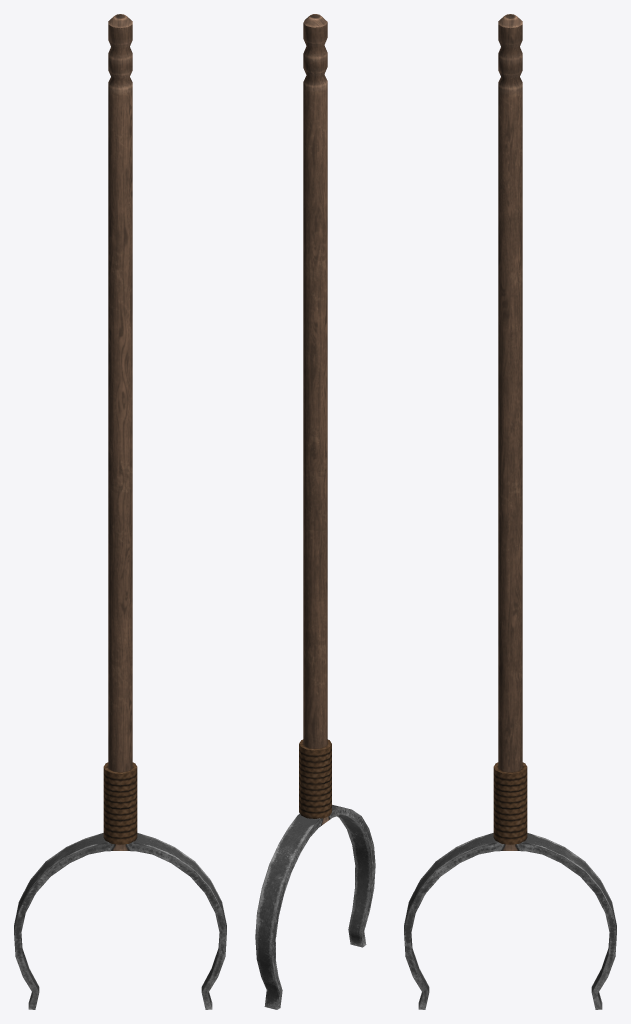
File: LOD0_grip.fbx
The picture shows the model from 3 angles, left to right: view 1: azimuth 90°, elevation 25°; view 2: azimuth 150°, elevation 25°; view 3: azimuth 270°, elevation 25°; orthographic projection. The views are drawn at different scales.
Parts seen in each view (by area): view 1: LOD0_grip; view 2: LOD0_grip; view 3: LOD0_grip.
Boxes of the visible parts, x1,y1,x2,y2 form: LOD0_grip: (14,14,226,1009); LOD0_grip: (255,14,375,1009); LOD0_grip: (404,14,616,1009).
Size of the model in its own units: 0.0473 by 1.52 by 0.2966.
